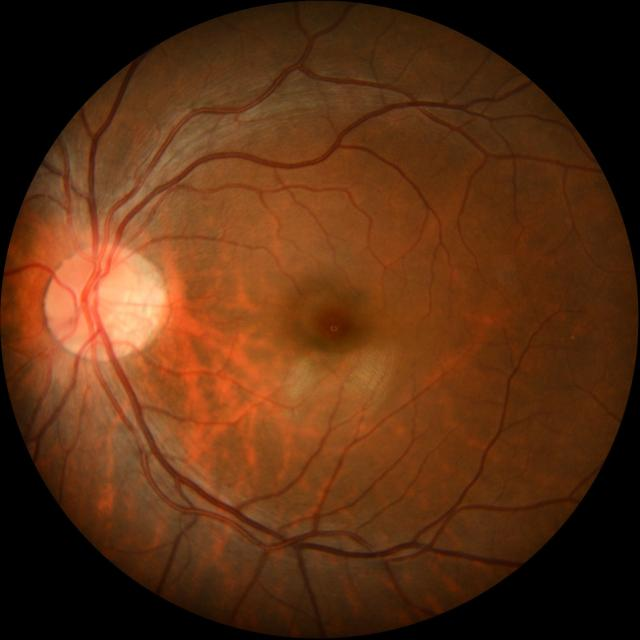OC: (86, 279, 110, 314)
OD: (47, 247, 145, 353)
